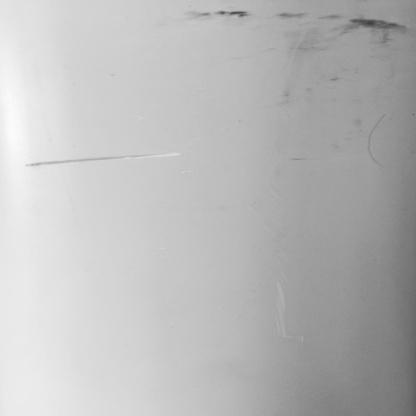sunshang: (16, 155, 195, 171)
